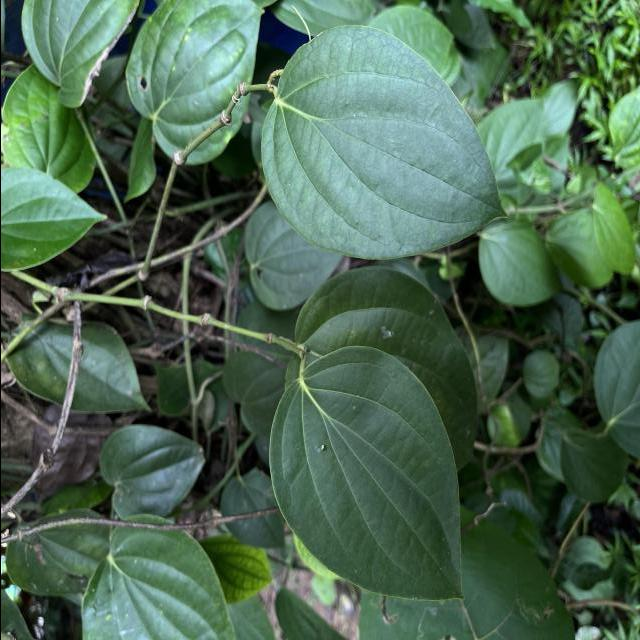Piper nigrum: (258, 24, 508, 262), (264, 343, 464, 604)
